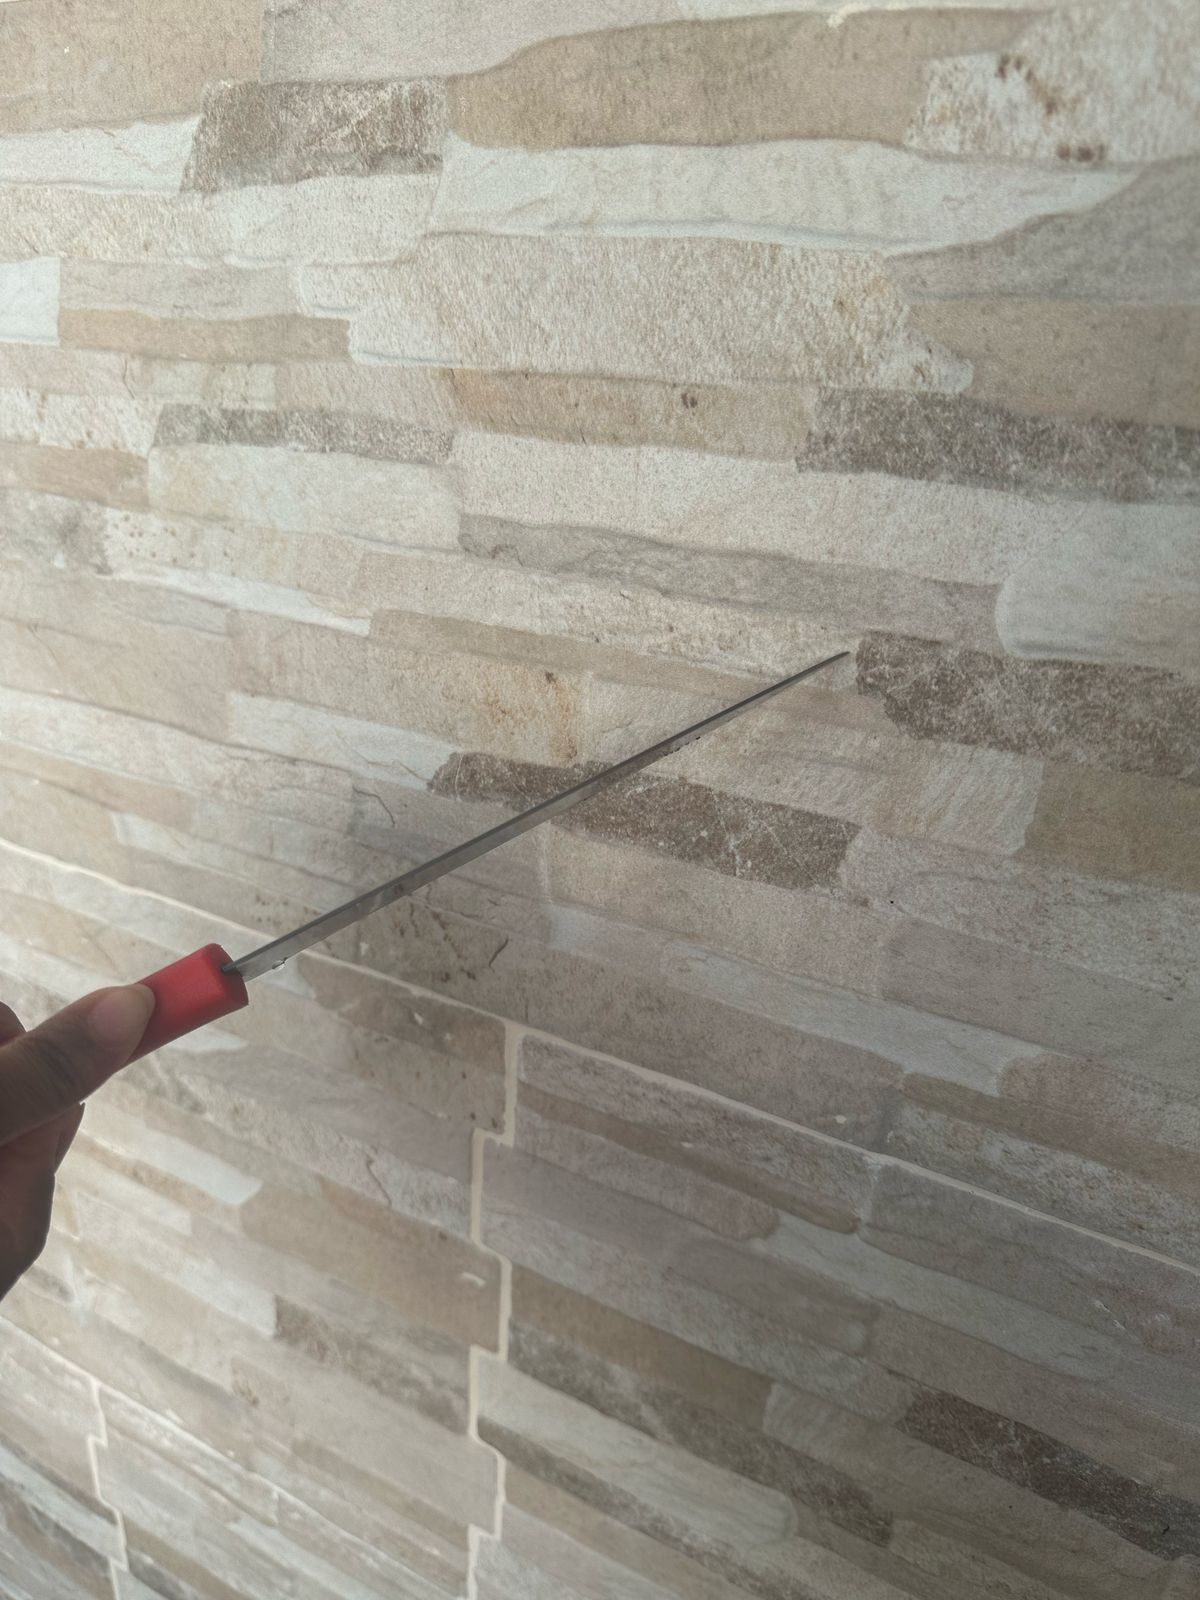faca: (173, 635, 875, 1019)
